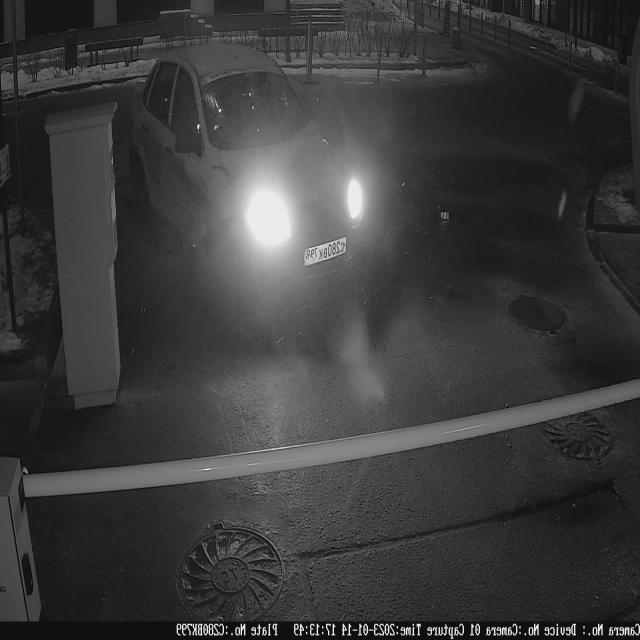car-plate-numbers: (304, 233, 349, 272)
